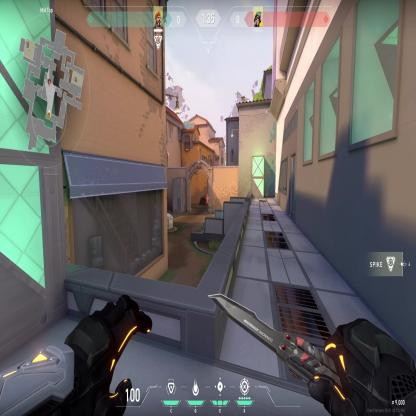enemy: (205, 192, 209, 214)
